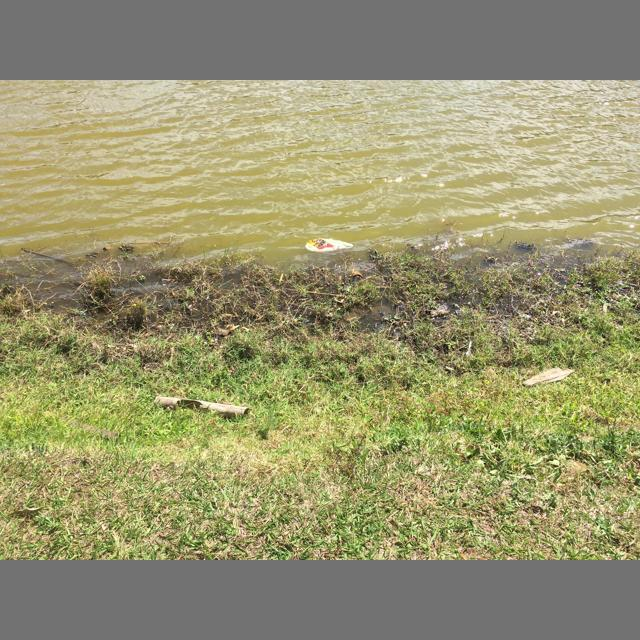litter: (305, 238, 353, 254)
